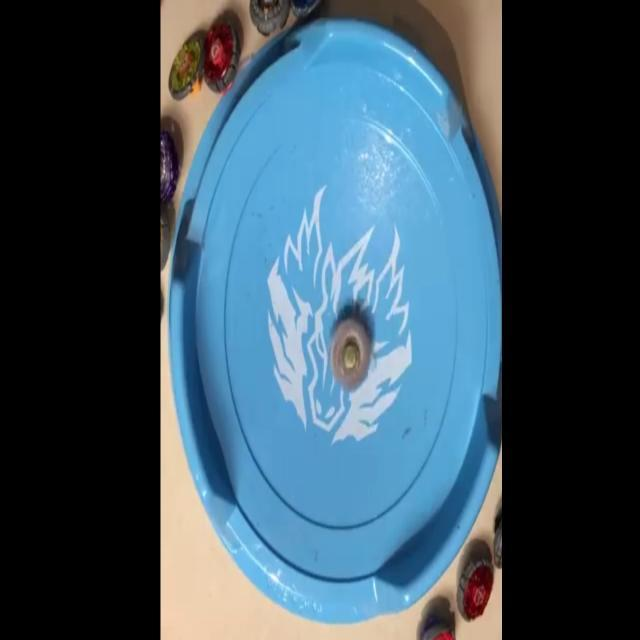Beyblade: (330, 316, 370, 389), (200, 18, 238, 93), (455, 556, 493, 622), (168, 35, 202, 102)
